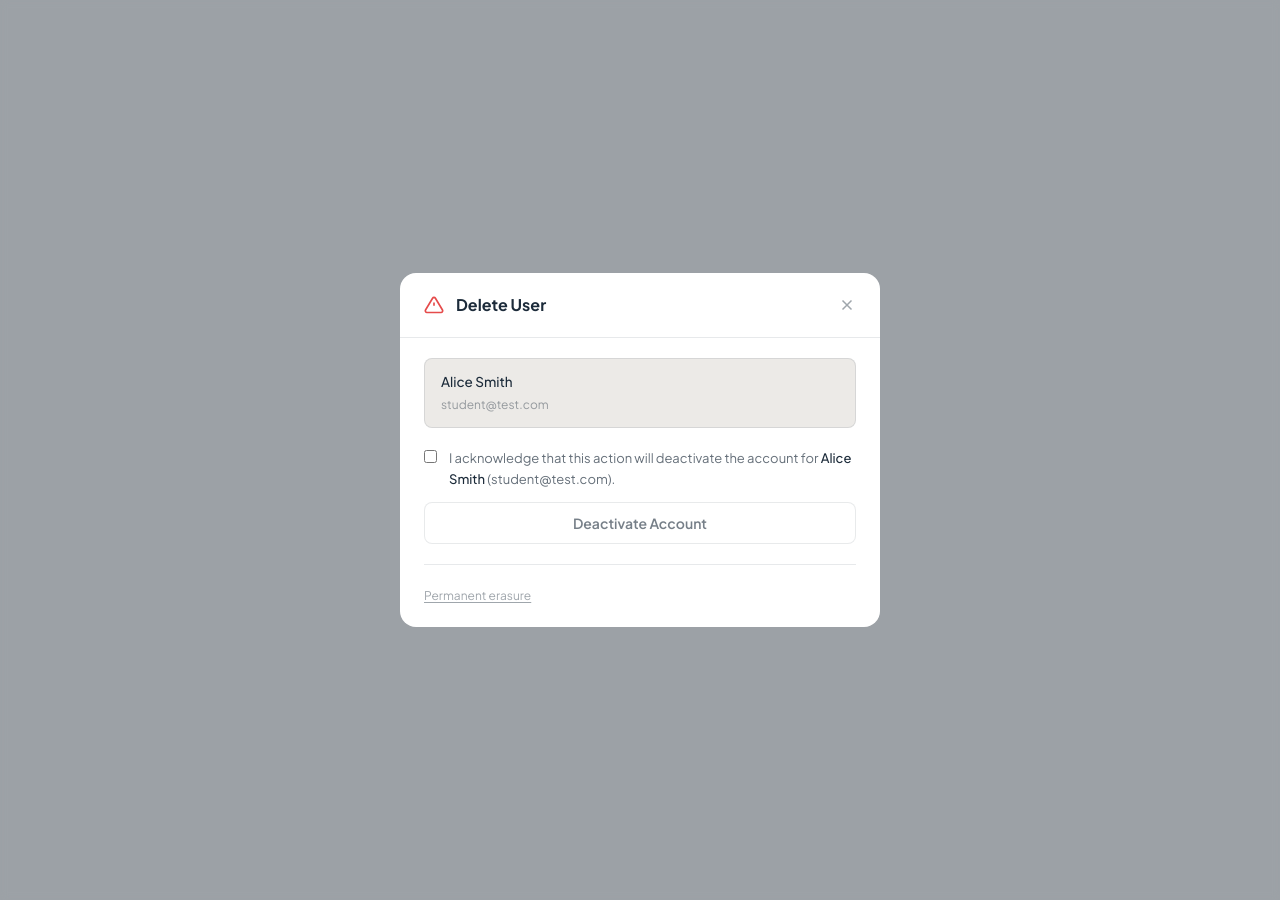
Test: DeleteUserModal › expands hard delete section on click of Permanent erasure link
Click the button "Permanent erasure".
click(478, 596)  # box left=424, top=586, right=531, bottom=605
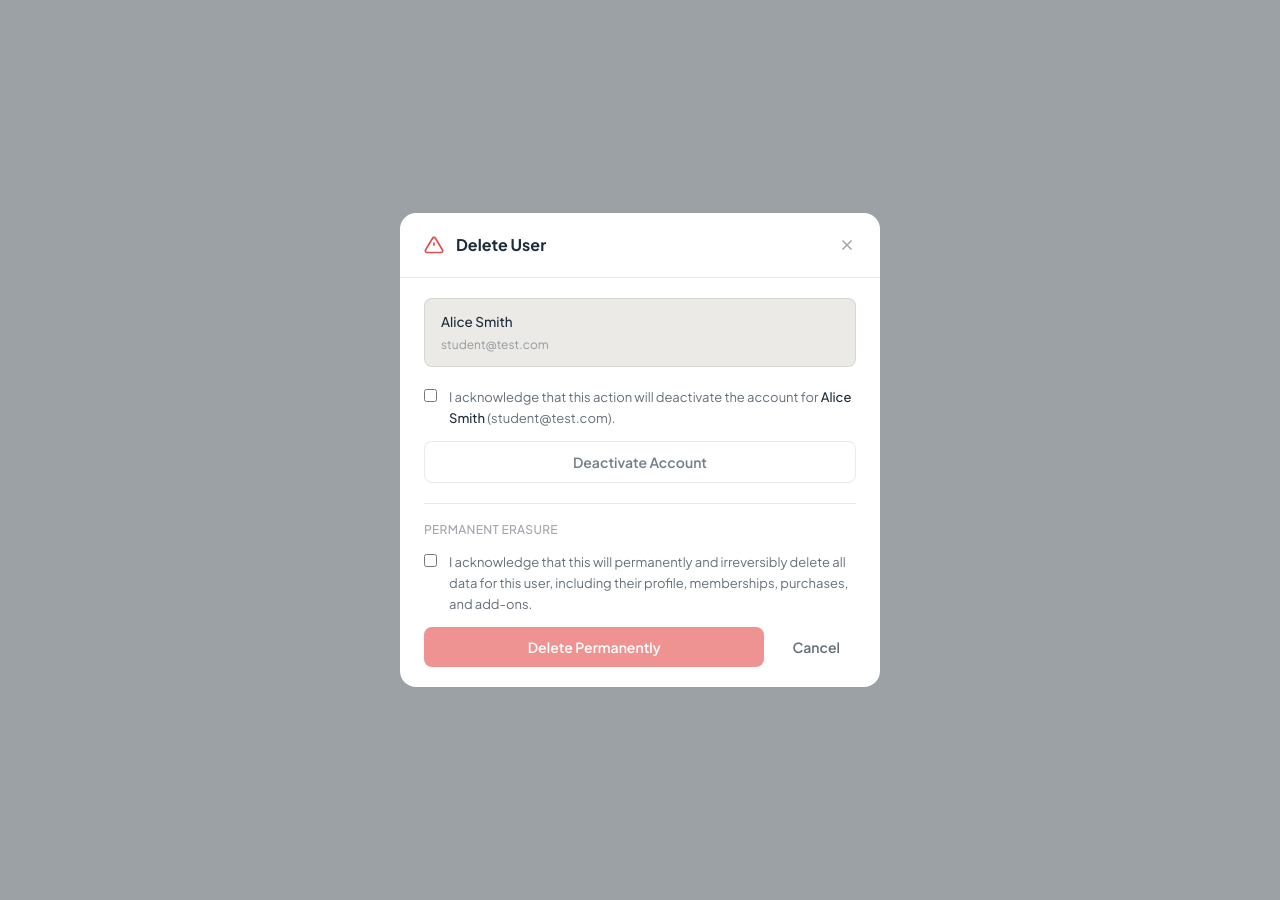
expect the button "Delete Permanently" is shown: met, box left=424, top=627, right=764, bottom=667
